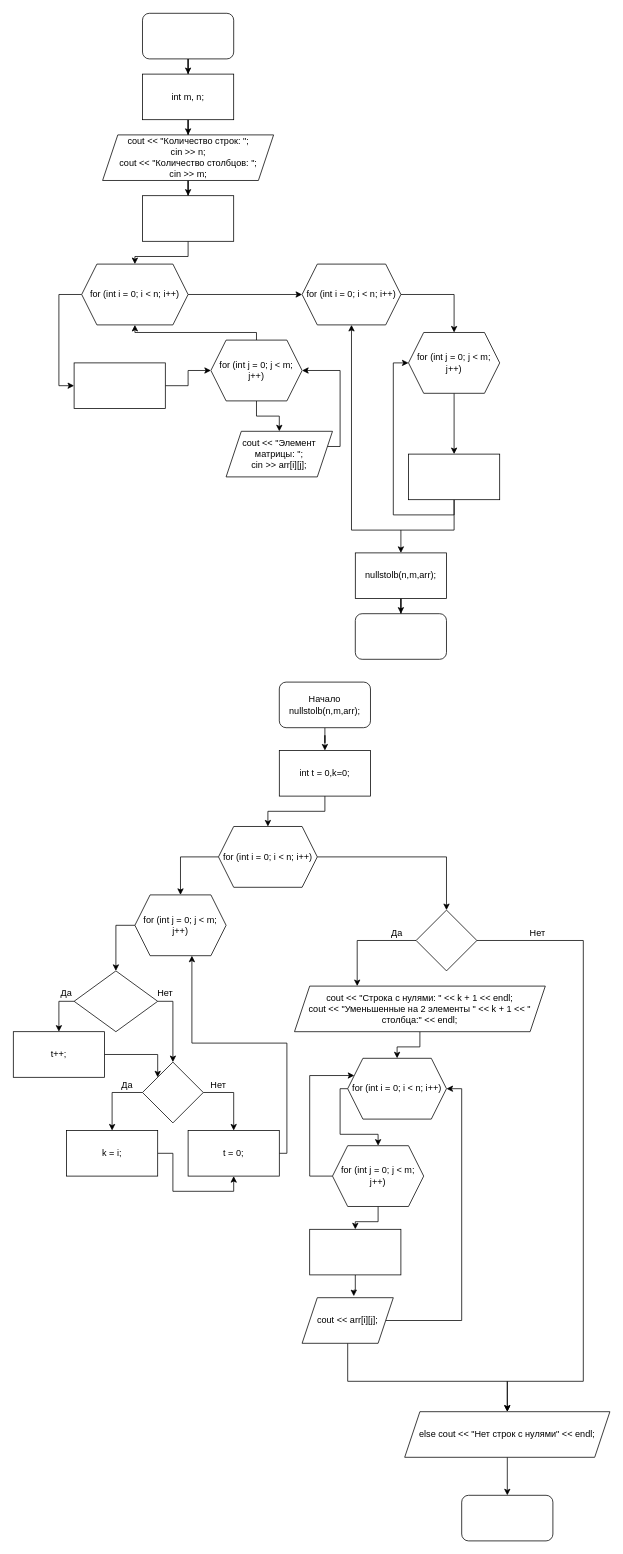
Some shapes in this 623 by 1554 pixel diagram are drawn without their labels. The centre of each missing label's shape, as x and y in pixels:
arr[i] = new int[m];: (119,385)
arr[i][j] = arr[i][j] / 2;: (355,1252)
cout << arr[i][j] <<"\t";: (454,476)
if (arr[i][j] == 0): (115,1001)
if (k != 0): (446,940)
if (t == m): (172,1092)
int** arr = new int*[n];: (188,218)
Конец: (400,636)
Конец nullstolb(n,m,arr);: (507,1518)
Начало: (188,36)
